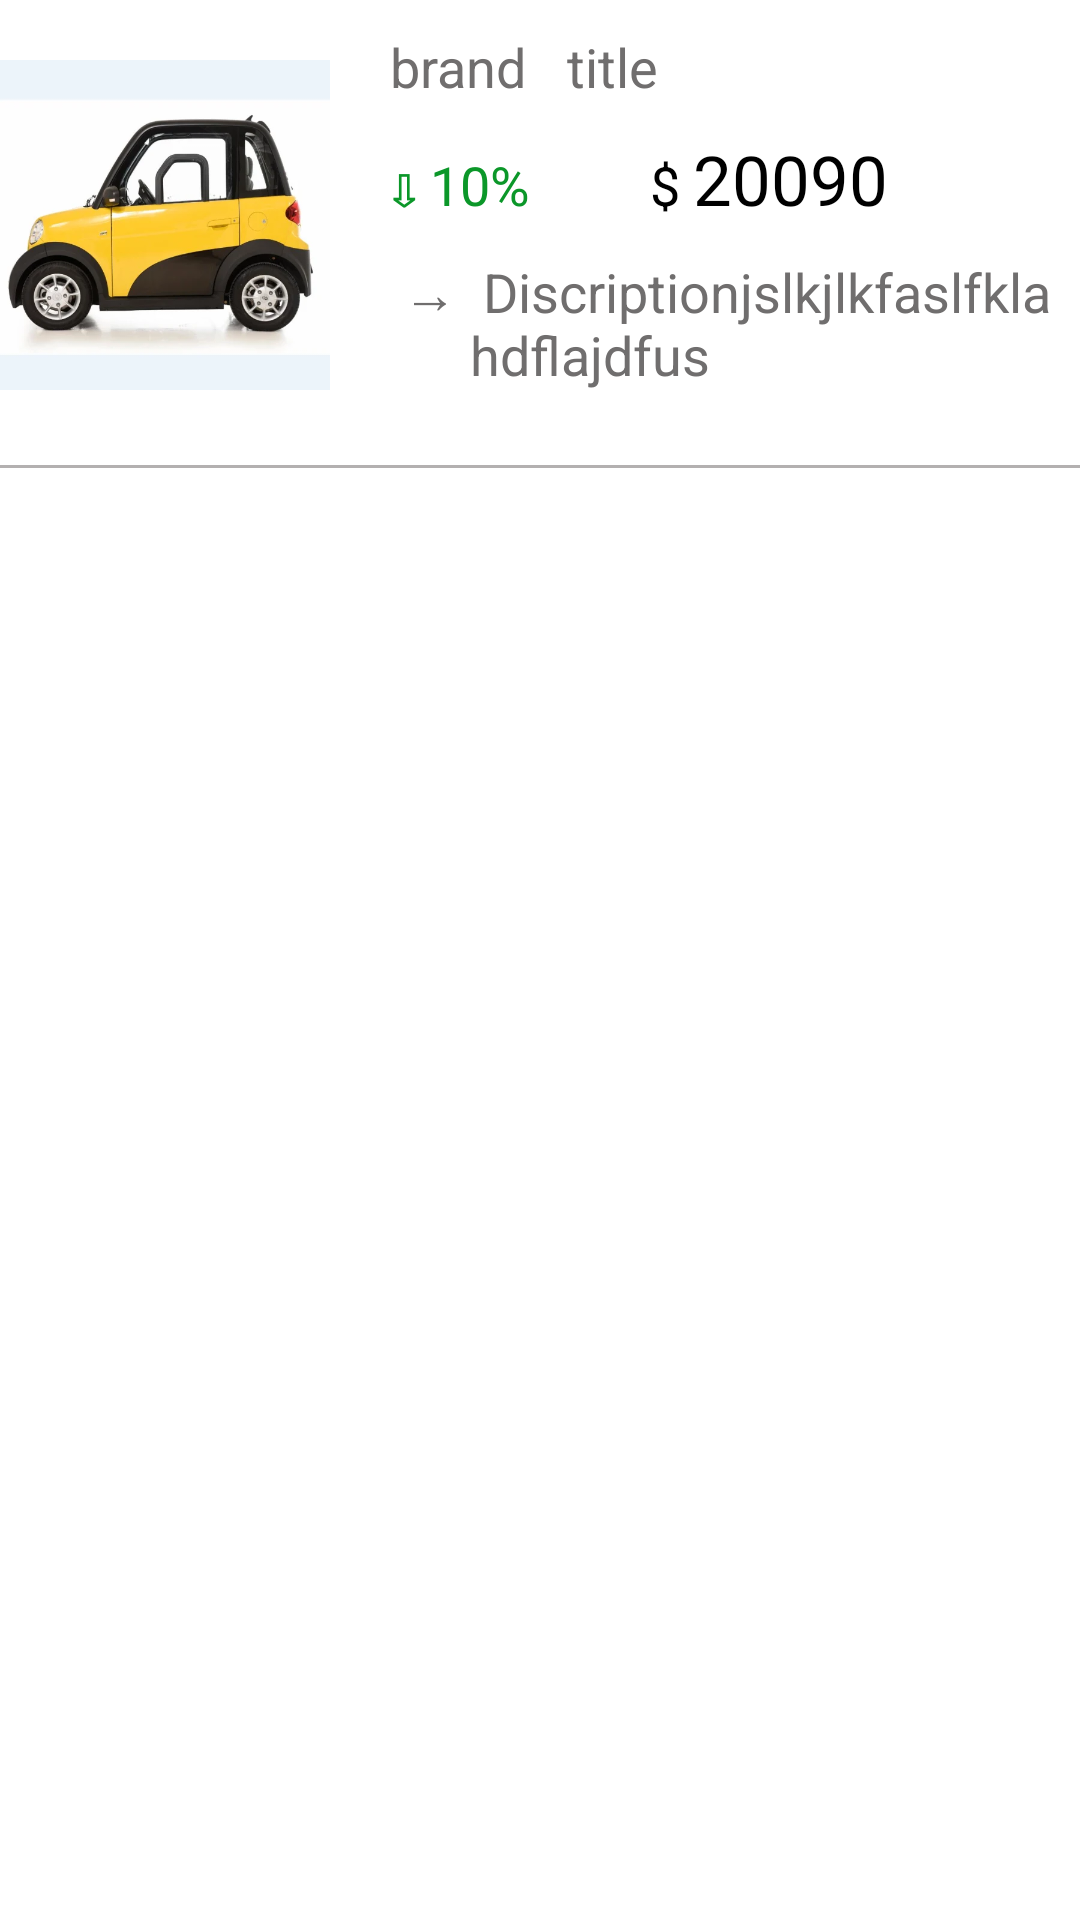

Where to tap for icons on this 1080w x 1920h app screen, as (x,y):
car: (160,230)
